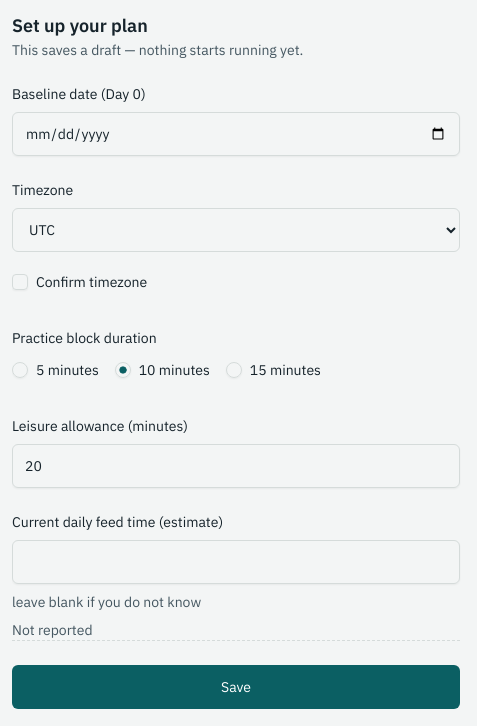
it: PlanForm › shows the blank feed estimate as Not reported, and a typed value as recorded
The image size is (477, 726).
Type "0" into the number field labelled "Current daily feed time (estimate)". click: (236, 562)
box: [12,540,460,584]
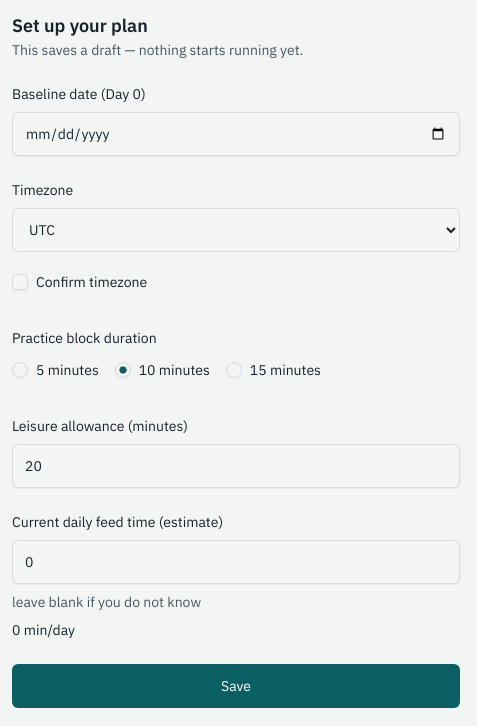
Now the text "Not reported" is gone
